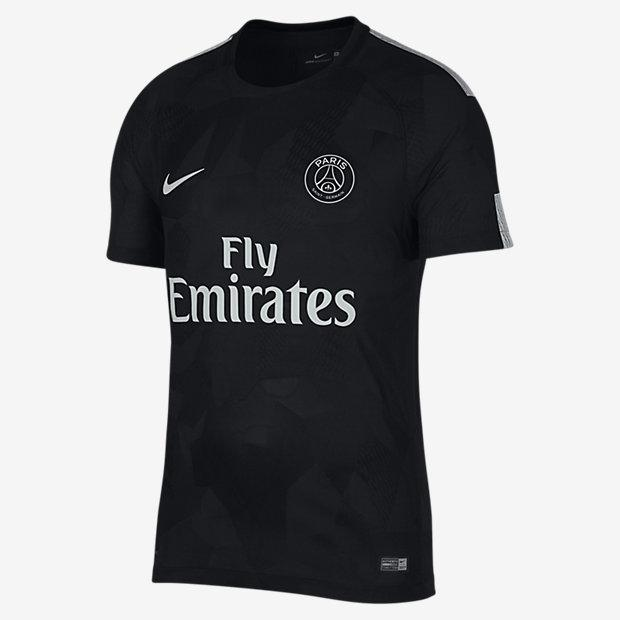teeshirt: (79, 4, 550, 620)
